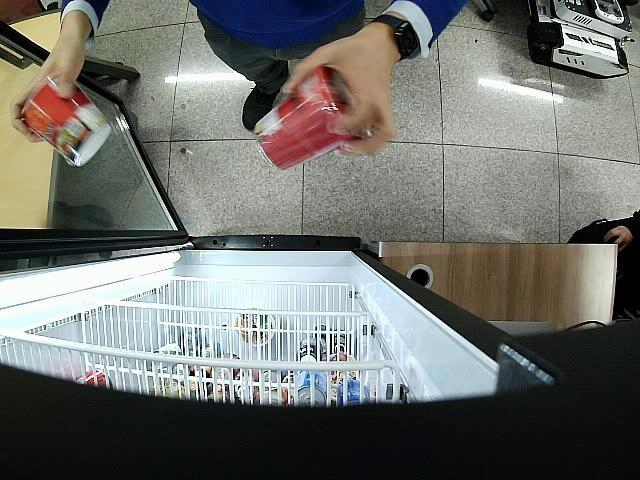02_shinRamen_S: (254, 66, 372, 170), (22, 72, 111, 168)
